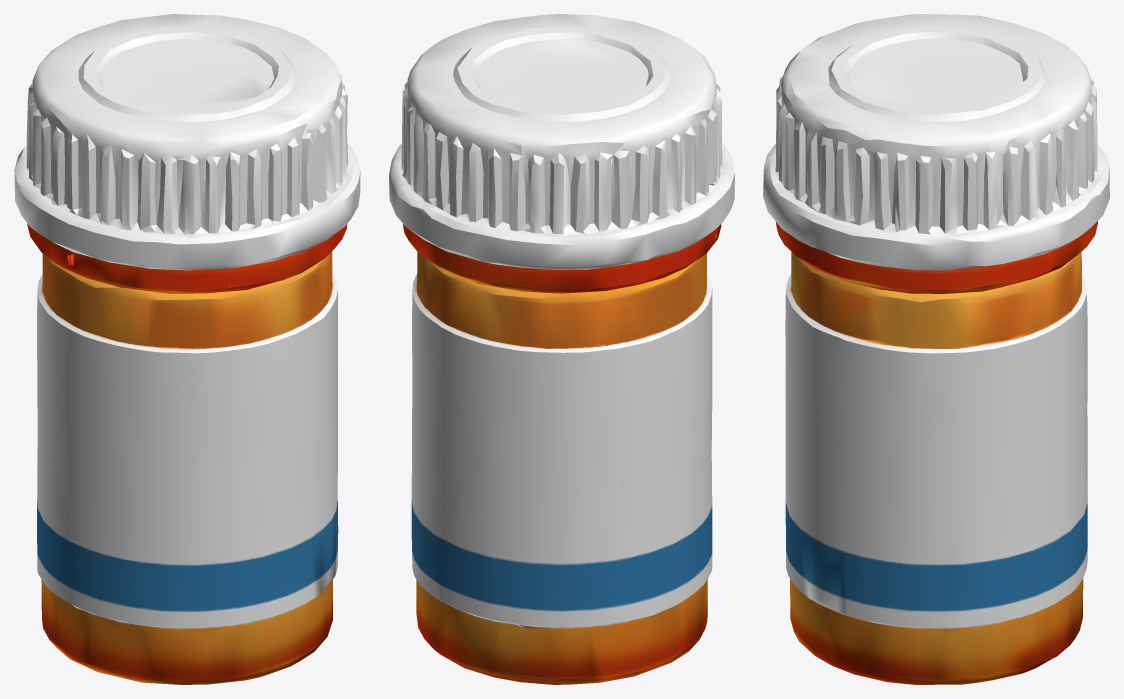
File: Metformin.glb
3 views of the same model, side by side, from view 1: azimuth 30°, elevation 25°; view 2: azimuth 150°, elevation 25°; view 3: azimuth 270°, elevation 25° (orthographic).
Parts seen in each view (by area): view 1: geometry_0; view 2: geometry_0; view 3: geometry_0.
Boxes of the visible parts, x1=… form: geometry_0: x1=14, y1=14, x2=360, y2=684; geometry_0: x1=389, y1=14, x2=734, y2=684; geometry_0: x1=763, y1=14, x2=1109, y2=684.
Bounding box in the file's own units: 0.045 × 0.08 × 0.045.
Materials: 1 (1 with a texture image).
